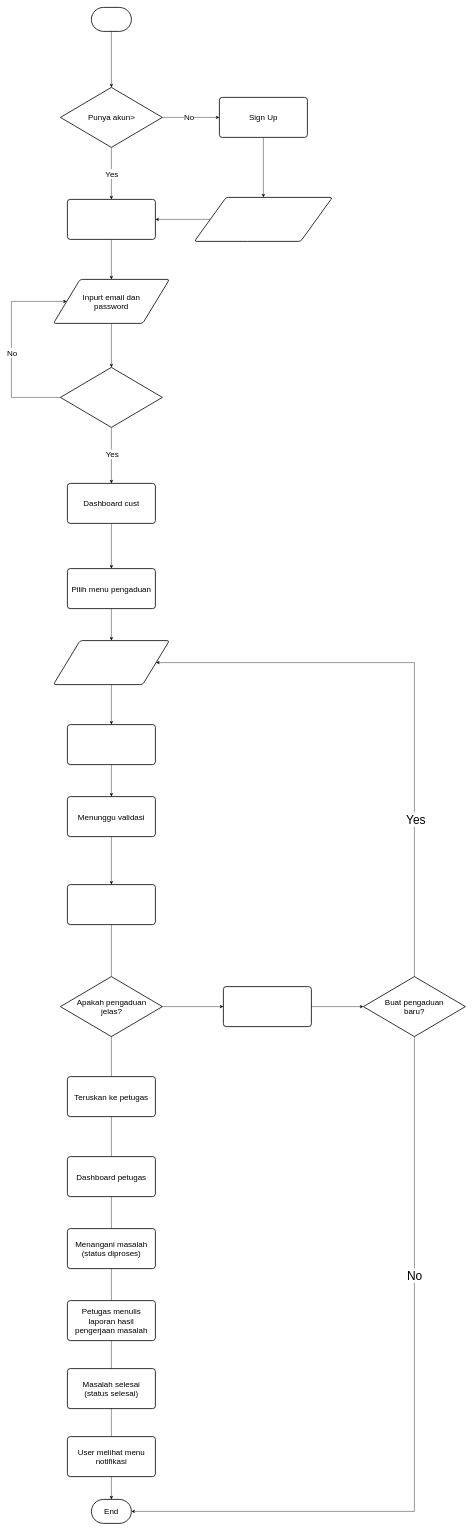
Image size: 473x1530. Some labels were removed from this diagram. The shapes that lost their labels are listed below. From the top down, each one's centre as x and y in pixels, then its label:
At point (111, 19): "Start".
At point (111, 219): "Sign In".
At point (263, 219): "Input email, no telp dan password".
At point (111, 397): "Kredensial benar?".
At point (111, 662): "Input form pengaduan".
At point (111, 744): "Submit".
At point (111, 904): "Dashboard admin".
At point (267, 1006): "Ditolak".
